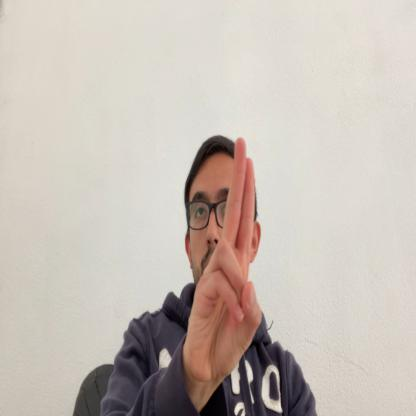U: (185, 138, 264, 408)
